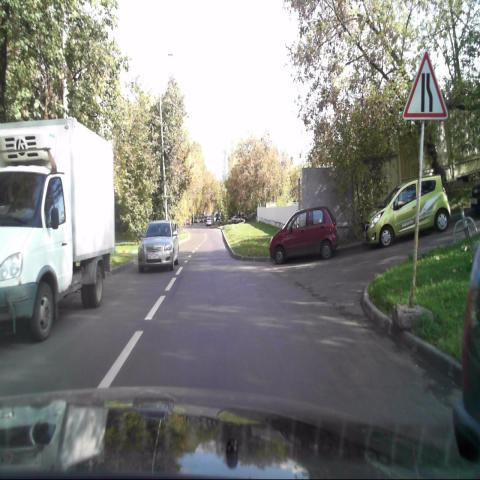1_20_2: (402, 48, 450, 123)
